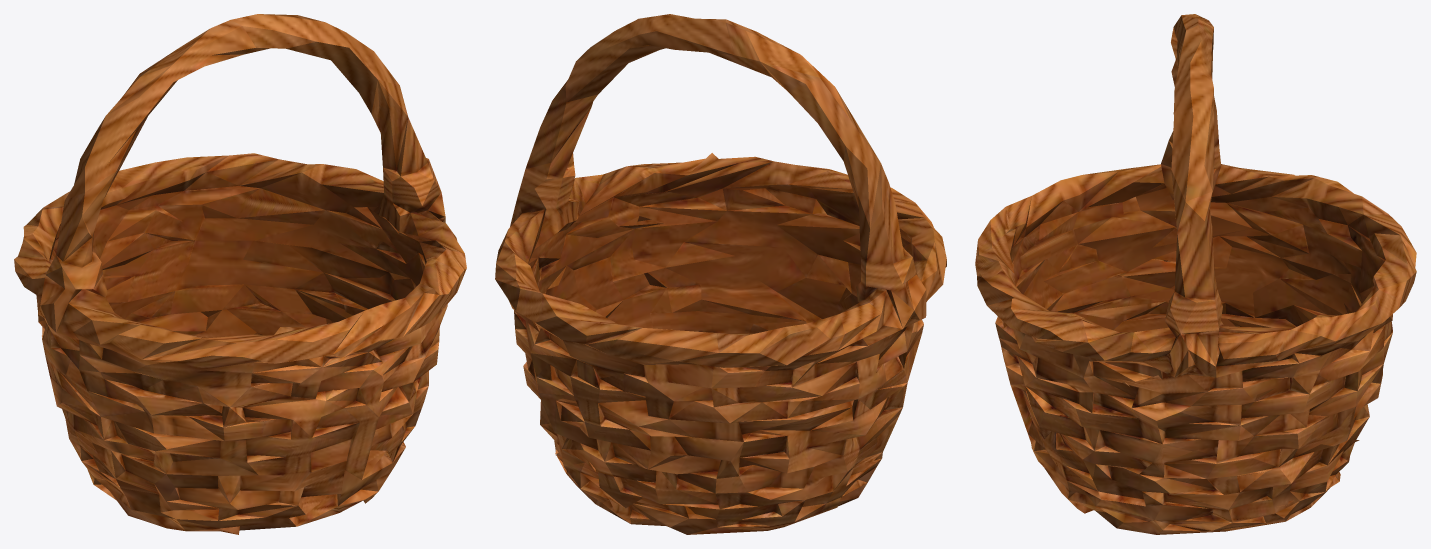
The model's file is basket_b4.glb.
3 views of the same model, side by side, from view 1: azimuth 30°, elevation 25°; view 2: azimuth 150°, elevation 25°; view 3: azimuth 270°, elevation 25° (orthographic). The views are drawn at different scales.
Parts seen in each view (by area): view 1: output_unwrapped; view 2: output_unwrapped; view 3: output_unwrapped.
Boxes of the visible parts, box(x1,y1,x2,y2) form: output_unwrapped: box(14, 14, 466, 534); output_unwrapped: box(495, 14, 946, 534); output_unwrapped: box(975, 14, 1416, 534).
Bounding box in the file's own units: 1.72 × 1.9 × 1.7.
Materials: 1 (1 with a texture image).
